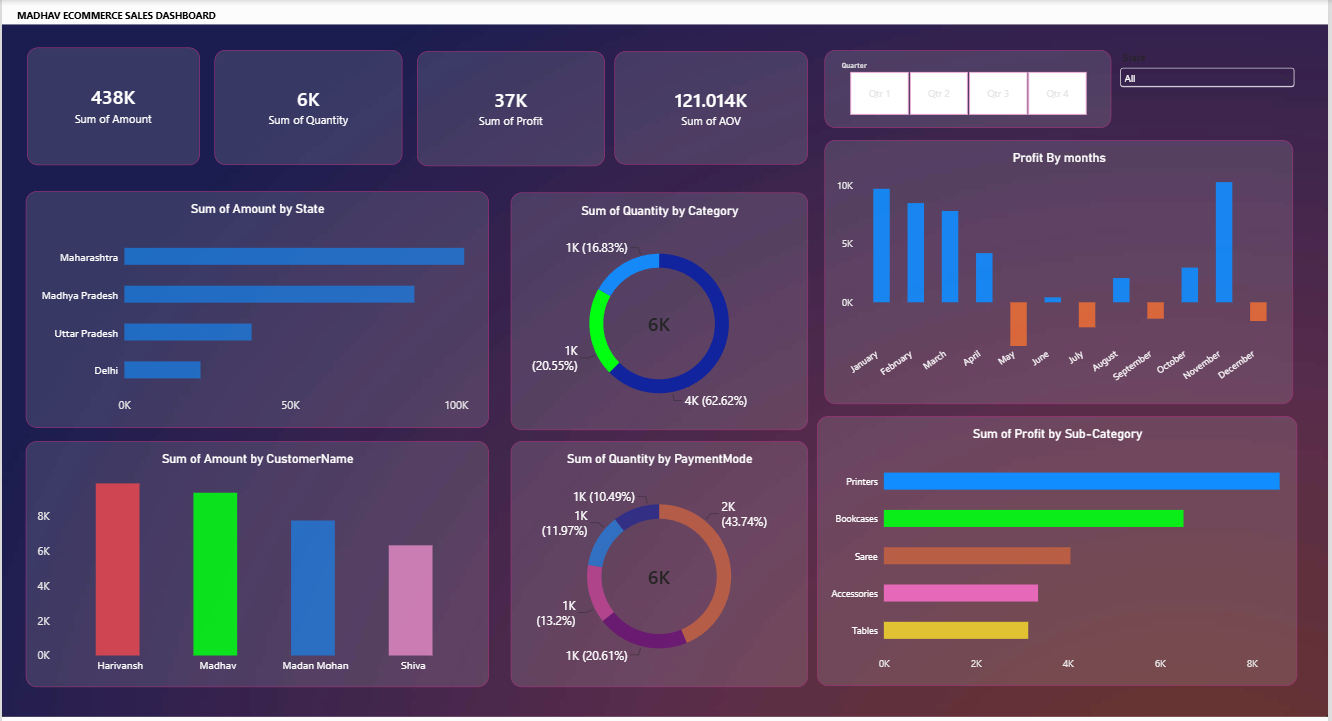

The dashboard page shown, as its layout file describes it:
{"tool":"powerbi","page":{"name":"Page 1","canvas":[1920,1080],"ordinal":0},"visuals":[{"type":"textbox","box":[22,12,319,32],"z":0},{"type":"columnChart","title":"Profit By months","fields":{"Category":["Orders.Order Date.Variation.Date Hierarchy.Month"],"Y":["Sum(Details.Profit)"]},"box":[1190,202.5,678,382],"z":1000},{"type":"barChart","fields":{"Category":["Details.Sub-Category"],"Y":["Sum(Details.Profit)"]},"box":[1180,602.5,695,390],"z":2000},{"type":"donutChart","fields":{"Category":["Details.Category"],"Y":["Sum(Details.Quantity)"]},"box":[736,278,430,344],"z":3000},{"type":"donutChart","fields":{"Category":["Details.PaymentMode"],"Y":["Sum(Details.Quantity)"]},"box":[736,638,430,356],"z":4000},{"type":"cardVisual","fields":{"Data":["Sum(Details.Amount)"]},"box":[36,68,250,170],"z":5000},{"type":"cardVisual","fields":{"Data":["Sum(Details.Profit)"]},"box":[600,74,272,166],"z":6000},{"type":"cardVisual","fields":{"Data":["Sum(Details.Quantity)"]},"box":[308,72,272,166],"z":7000},{"type":"cardVisual","fields":{"Data":["Sum(Details.AOV)"]},"box":[886,74,280,164],"z":8000},{"type":"barChart","fields":{"Category":["Orders.State"],"Y":["Sum(Details.Amount)"]},"box":[35,277.5,670,342.5],"z":9000},{"type":"columnChart","fields":{"Category":["Orders.CustomerName"],"Y":["Sum(Details.Amount)"]},"box":[35,638,670,356],"z":10000},{"type":"slicer","fields":{"Values":["Orders.Order Date.Variation.Date Hierarchy.Quarter"]},"box":[1190,72.5,415,112.5],"z":11000},{"type":"slicer","fields":{"Values":["Orders.State"]},"box":[1614,74,262,84],"z":11001}]}

Visuals, with their boxes on the page's 1920x1080 design canvas (x1, y1, x2, y2). These are canvas units, not pixel positions in the 1332x721 screenshot, which may show the page scaled, cropped or inside an application window:
textbox: region(22, 12, 341, 44)
"Profit By months" columnChart: region(1190, 202, 1868, 584)
barChart - Details.Sub-Category x Sum(Details.Profit): region(1180, 602, 1875, 992)
donutChart - Details.Category x Sum(Details.Quantity): region(736, 278, 1166, 622)
donutChart - Details.PaymentMode x Sum(Details.Quantity): region(736, 638, 1166, 994)
cardVisual - Sum(Details.Amount): region(36, 68, 286, 238)
cardVisual - Sum(Details.Profit): region(600, 74, 872, 240)
cardVisual - Sum(Details.Quantity): region(308, 72, 580, 238)
cardVisual - Sum(Details.AOV): region(886, 74, 1166, 238)
barChart - Orders.State x Sum(Details.Amount): region(35, 278, 705, 620)
columnChart - Orders.CustomerName x Sum(Details.Amount): region(35, 638, 705, 994)
slicer - Orders.Order Date.Variation.Date Hierarchy.Quarter: region(1190, 72, 1605, 185)
slicer - Orders.State: region(1614, 74, 1876, 158)
